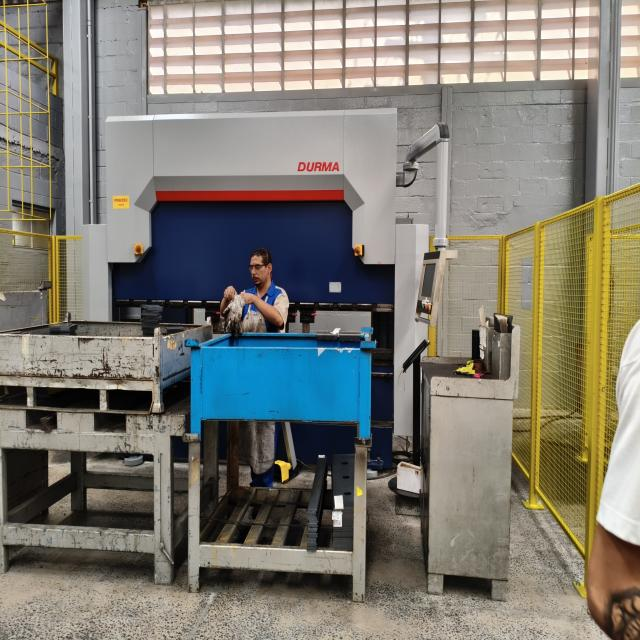oculos-epi: (248, 263, 268, 273)
